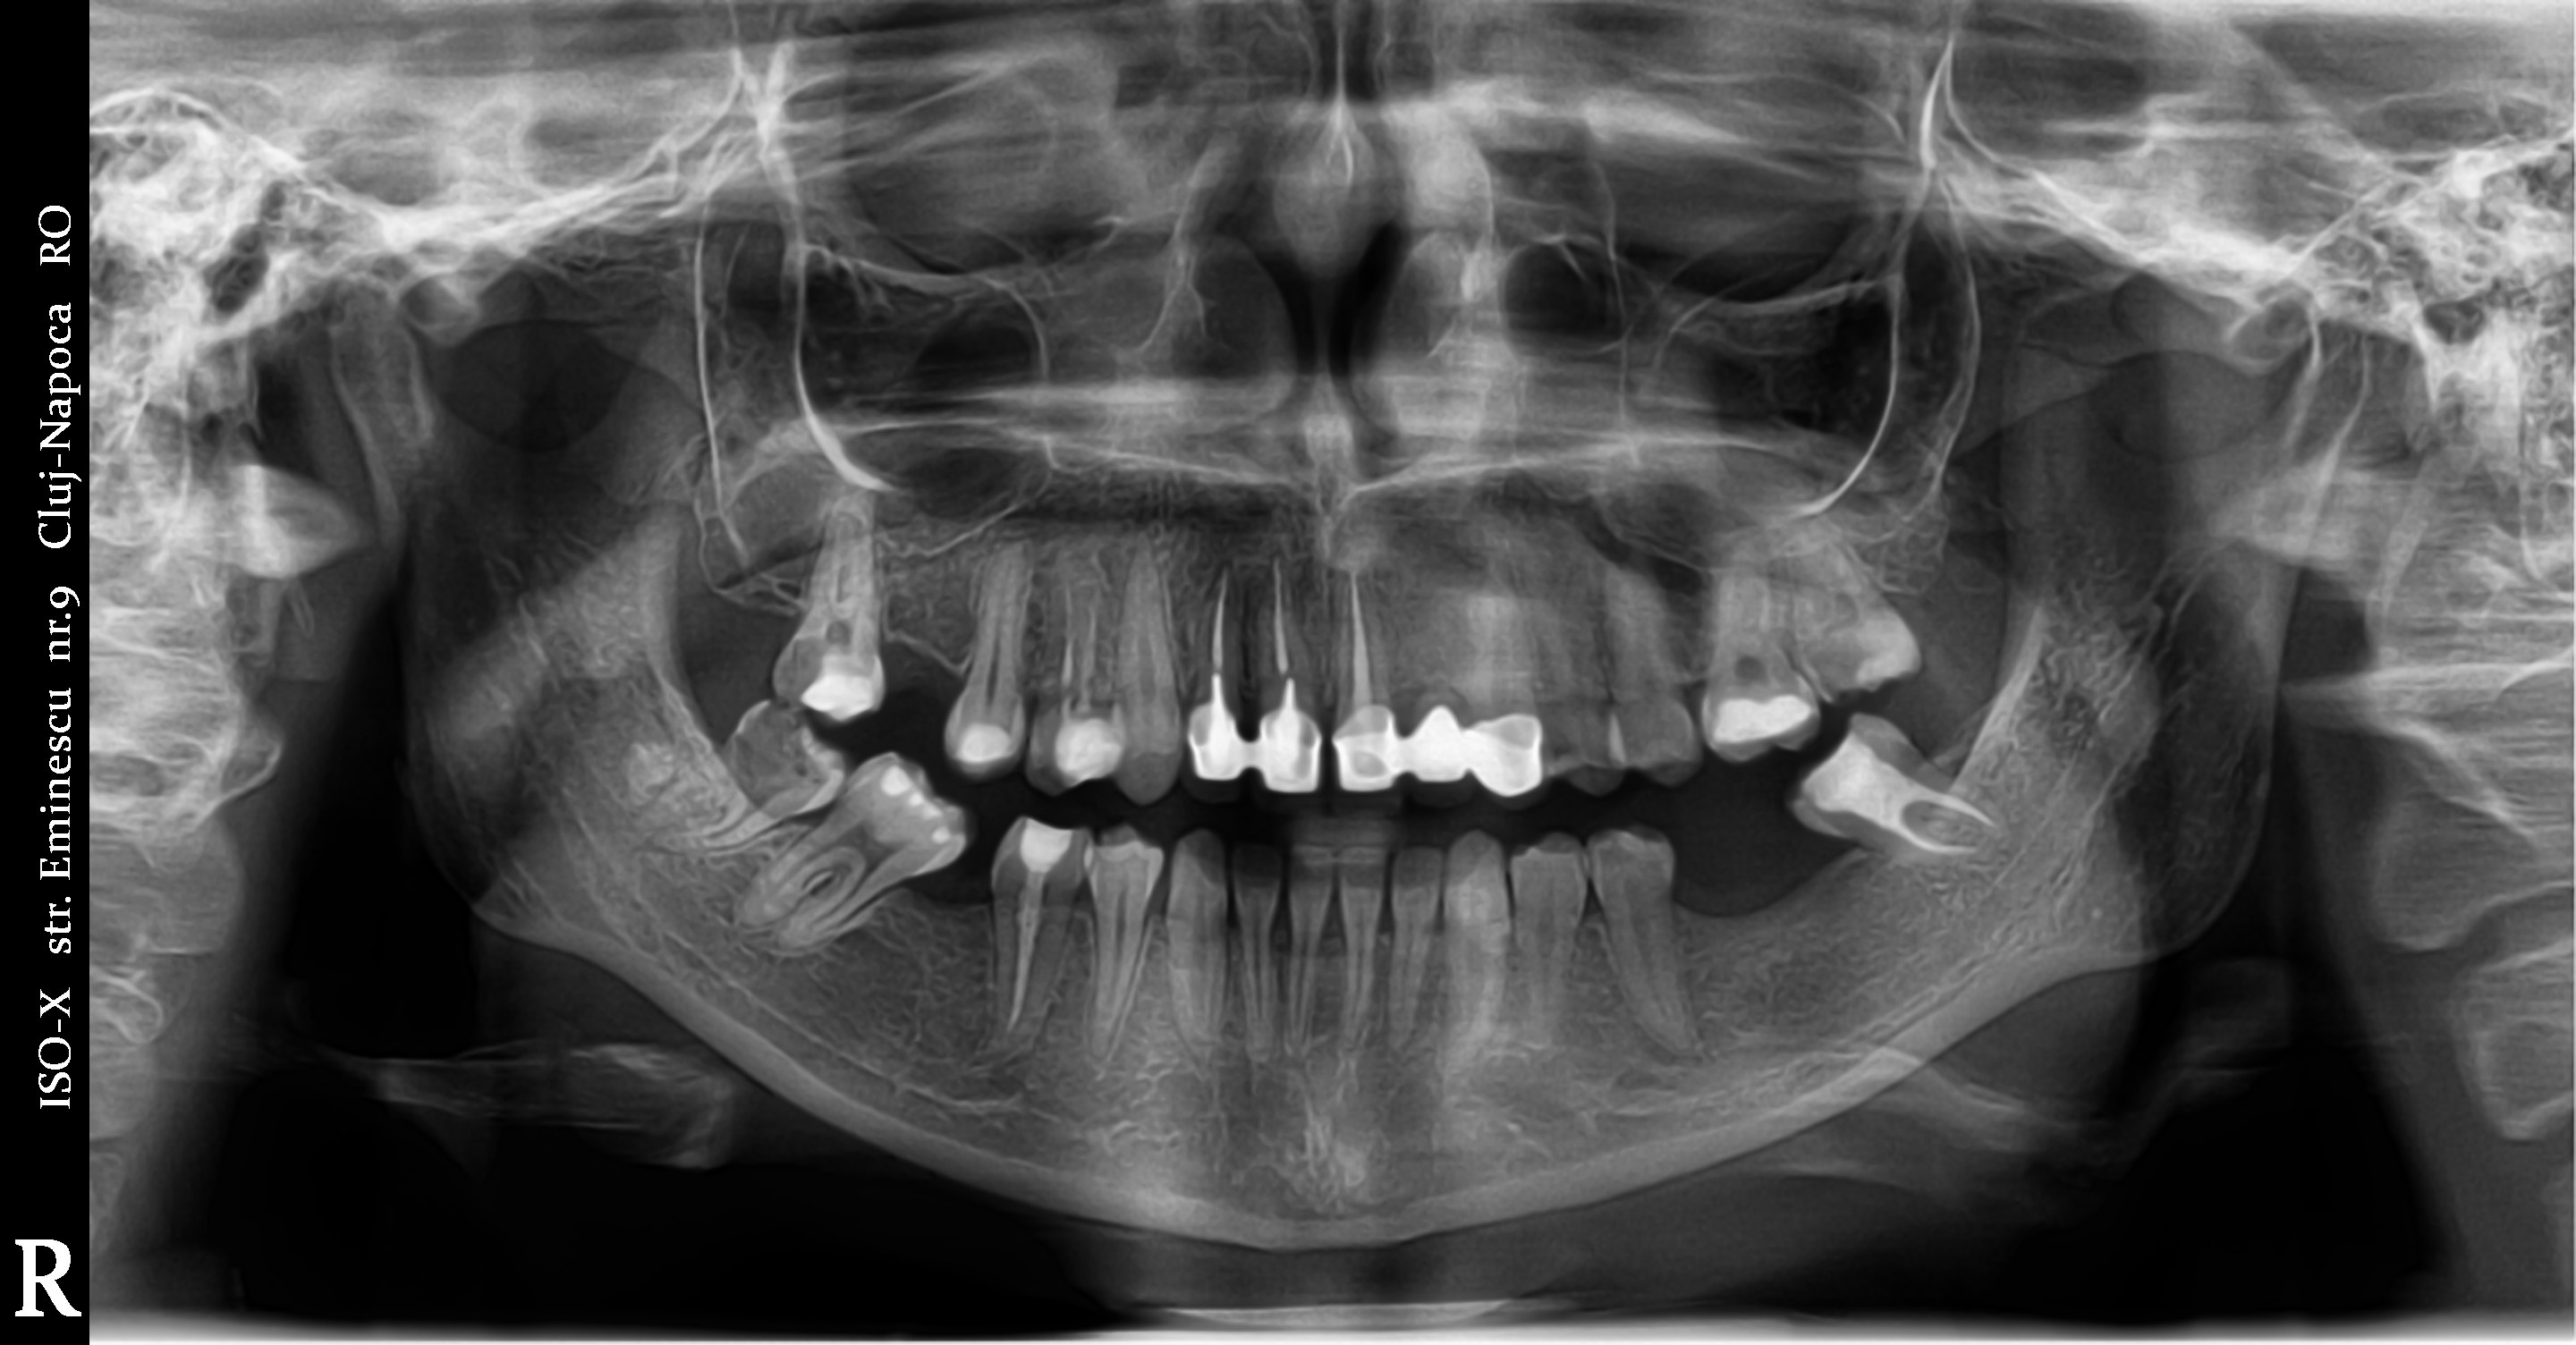CAR: (716, 688, 843, 812), (753, 618, 854, 703), (1794, 616, 1886, 703)
END: (980, 896, 1068, 1047), (1898, 785, 2010, 884), (1189, 552, 1247, 698), (1327, 557, 1380, 717), (1247, 548, 1300, 698)
OBT: (1693, 679, 1826, 773), (1799, 730, 1906, 834), (867, 751, 963, 856), (1044, 698, 1145, 776), (997, 802, 1087, 885), (804, 659, 886, 724), (954, 695, 1014, 778)
PRR: (1332, 684, 1564, 824), (1179, 686, 1324, 826)
